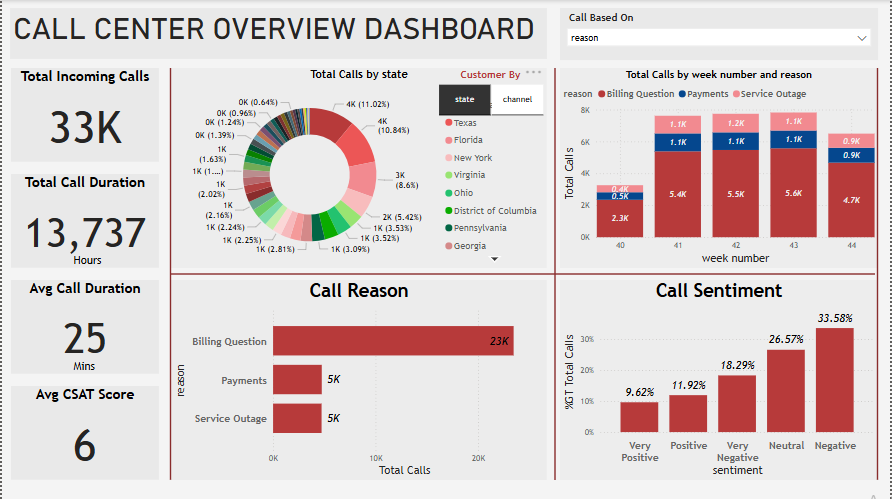

Layout of this report page (visuals, bound fields, positions):
{"tool":"powerbi","page":{"name":"Page 1","canvas":[1280,720],"ordinal":0},"visuals":[{"type":"textbox","box":[11.5,11.5,773.3,73.4],"z":0},{"type":"card","title":"Total Incoming Calls","fields":{"Values":["Call Center.Total Calls"]},"box":[13,97.9,213.1,135.4],"z":1000},{"type":"card","title":"Avg Call Duration","fields":{"Values":["Call Center.Averge Call Time in Mins"]},"box":[13,403.2,213.1,135.4],"z":2000},{"type":"card","title":"Avg CSAT Score","fields":{"Values":["Call Center.AVG SATISFACTION SCORE"]},"box":[13,555.8,213.1,135.4],"z":3000},{"type":"card","title":"Total Call Duration","fields":{"Values":["Call Center.Total Call Duration in Hrs"]},"box":[13,250.6,213.1,135.4],"z":4000},{"type":"textbox","box":[97.9,360,70.6,34.6],"z":5000},{"type":"textbox","box":[97.9,504,70.6,34.6],"z":6000},{"type":"clusteredBarChart","title":"Call Reason","fields":{"Category":["Call Center.reason"],"Y":["Call Center.Total Calls"]},"box":[243.4,403.2,541.4,288],"z":7000},{"type":"clusteredColumnChart","title":"Call Sentiment","fields":{"Category":["Call Center.sentiment"],"Y":["Call Center.Total Calls"]},"box":[803.5,403.2,457.9,288],"z":8000},{"type":"donutChart","fields":{"Category":["Call Center.state"],"Y":["Call Center.Total Calls"]},"box":[243.4,97.9,541.4,288],"z":9000},{"type":"columnChart","fields":{"Series":["Call Center.reason"],"Category":["Call Center.week number"],"Y":["Call Center.Total Calls"]},"box":[804,98,458,288],"z":10000},{"type":"slicer","title":"Customer By","fields":{"Values":["Customer By.Customer By"]},"box":[603.4,97.9,200.2,74.9],"z":11000},{"type":"slicer","fields":{"Values":["Call Based On.Call Based On"]},"box":[803.5,11.5,457.9,74.9],"z":12000},{"type":"shape","box":[243.4,368.6,1013.8,51.8],"z":13000},{"type":"shape","box":[784.8,97.9,23,593.3],"z":14000},{"type":"shape","box":[239,97.9,7.2,593.3],"z":15000},{"type":"shape","box":[1251.4,97.9,18.7,593.3],"z":16000}]}

Visuals, with their boxes in screenshot pixels (x1, y1, x2, y2), scaled from the page's 1280x720 canvas onto the 892x499 screenshot:
textbox: left=8, top=8, right=547, bottom=59
"Total Incoming Calls" card: left=9, top=68, right=158, bottom=162
"Avg Call Duration" card: left=9, top=279, right=158, bottom=373
"Avg CSAT Score" card: left=9, top=385, right=158, bottom=479
"Total Call Duration" card: left=9, top=174, right=158, bottom=268
textbox: left=68, top=250, right=117, bottom=273
textbox: left=68, top=349, right=117, bottom=373
"Call Reason" clusteredBarChart: left=170, top=279, right=547, bottom=479
"Call Sentiment" clusteredColumnChart: left=560, top=279, right=879, bottom=479
donutChart - Call Center.state x Call Center.Total Calls: left=170, top=68, right=547, bottom=267
columnChart - Call Center.reason x Call Center.week number: left=560, top=68, right=879, bottom=268
"Customer By" slicer: left=420, top=68, right=560, bottom=120
slicer - Call Based On.Call Based On: left=560, top=8, right=879, bottom=60
shape: left=170, top=255, right=876, bottom=291
shape: left=547, top=68, right=563, bottom=479
shape: left=167, top=68, right=172, bottom=479
shape: left=872, top=68, right=885, bottom=479
